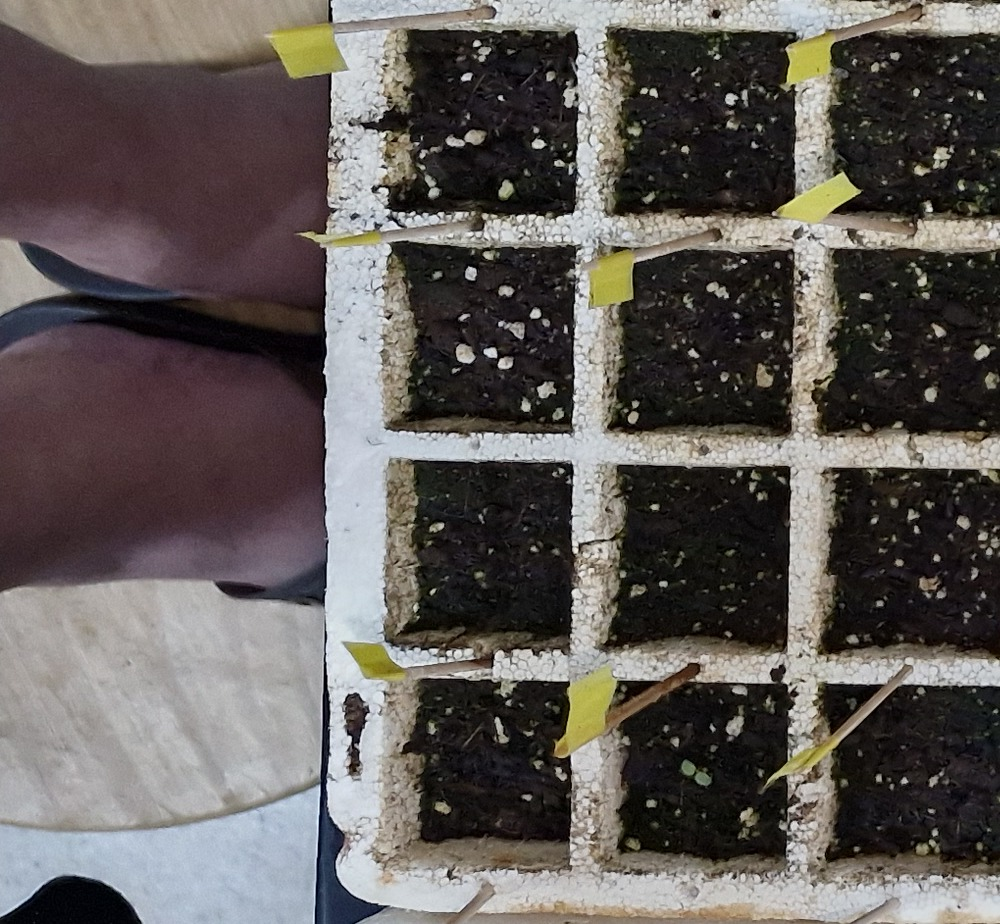Folha: (696, 772, 712, 786), (681, 760, 695, 774)
Germinacao: (681, 759, 712, 787)
